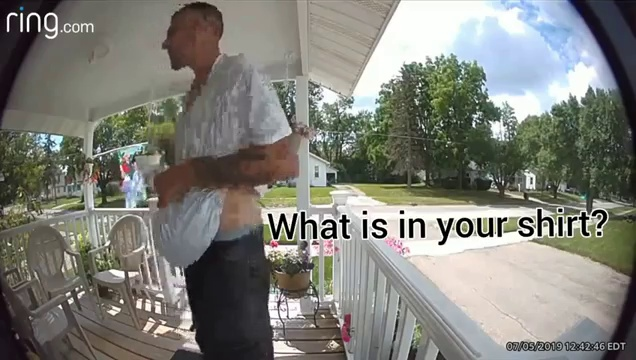face: (162, 17, 201, 69)
